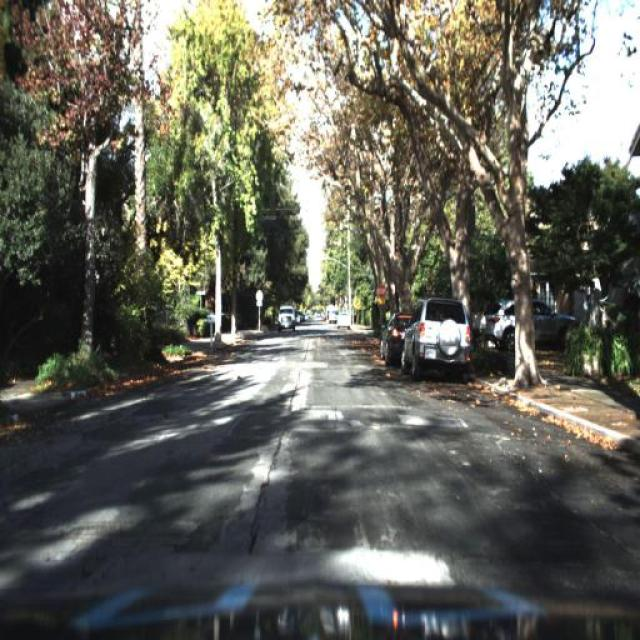car: (398, 294, 473, 384), (480, 297, 578, 352), (378, 310, 403, 374), (276, 304, 296, 335), (335, 306, 354, 335)
